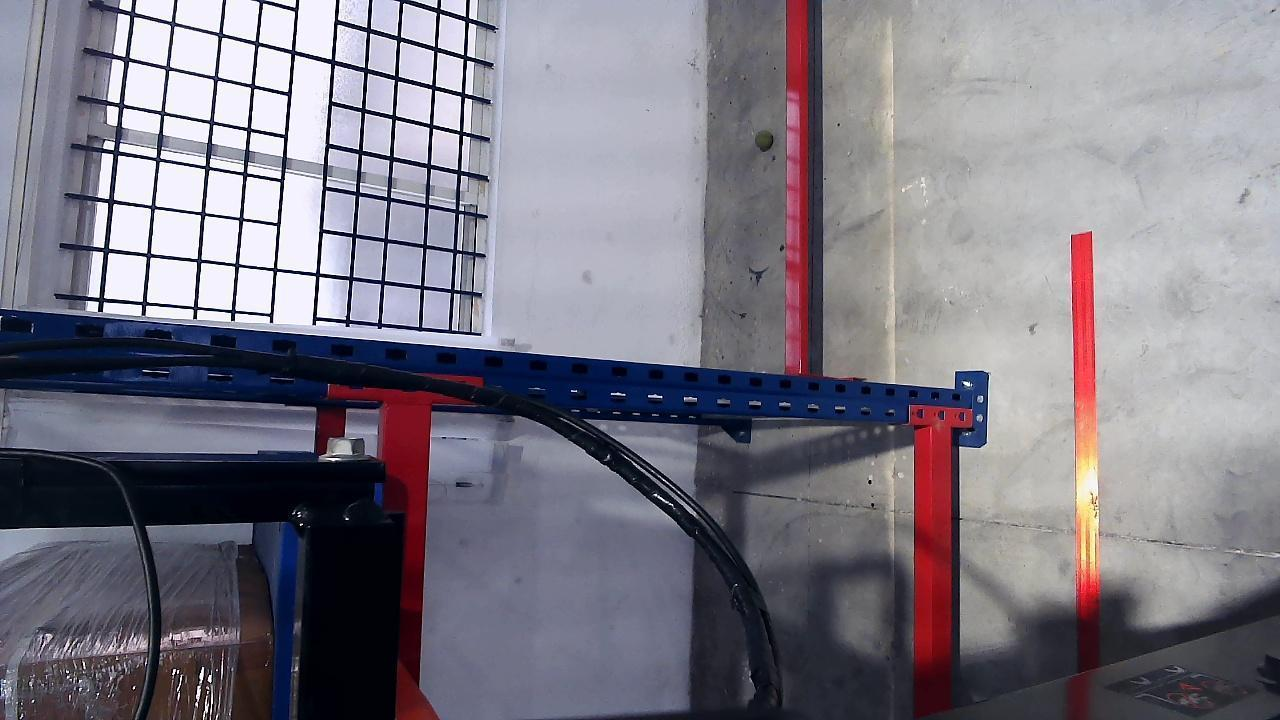red_line: (1073, 231, 1098, 671)
